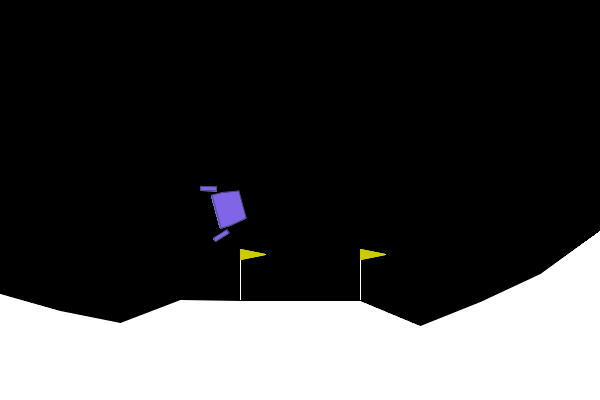lander: (198, 175, 252, 244)
